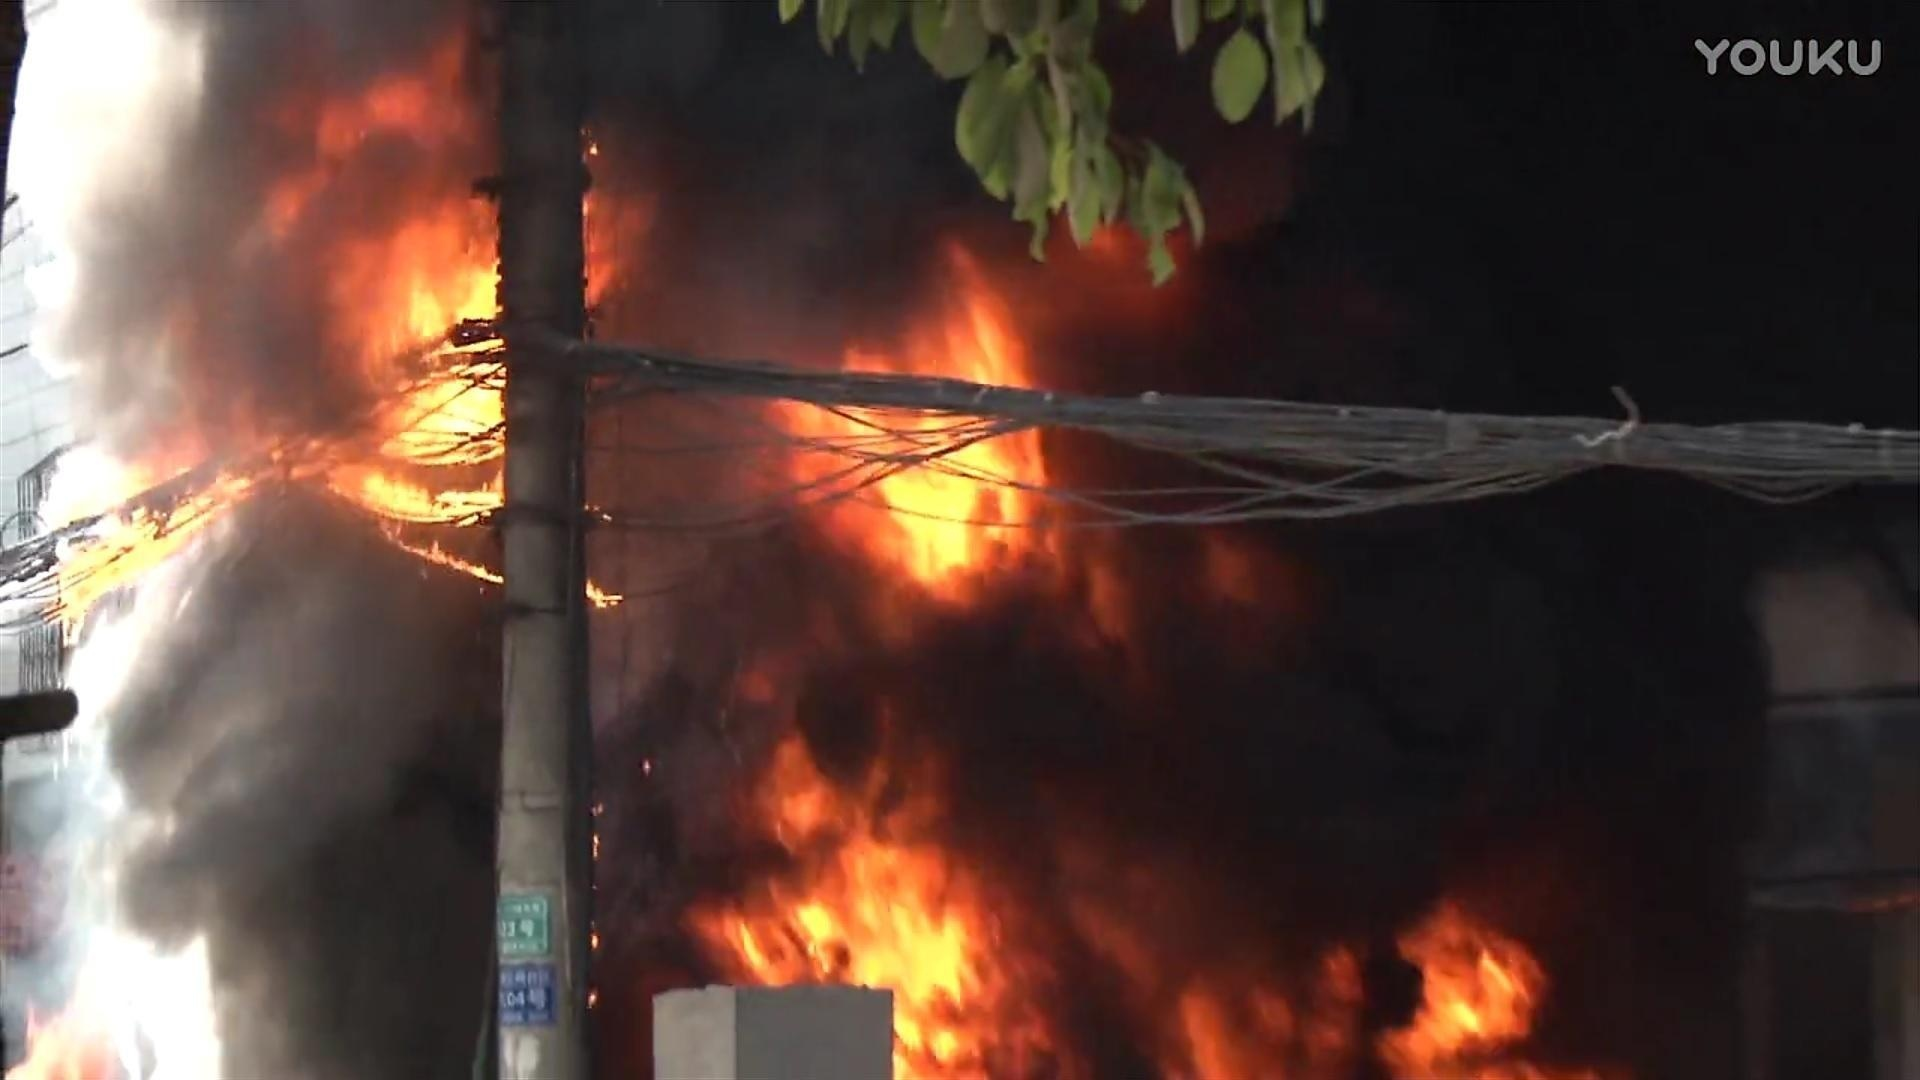fire: (88, 55, 518, 583), (705, 741, 1017, 1069), (791, 270, 1051, 571), (1382, 902, 1547, 1071)
